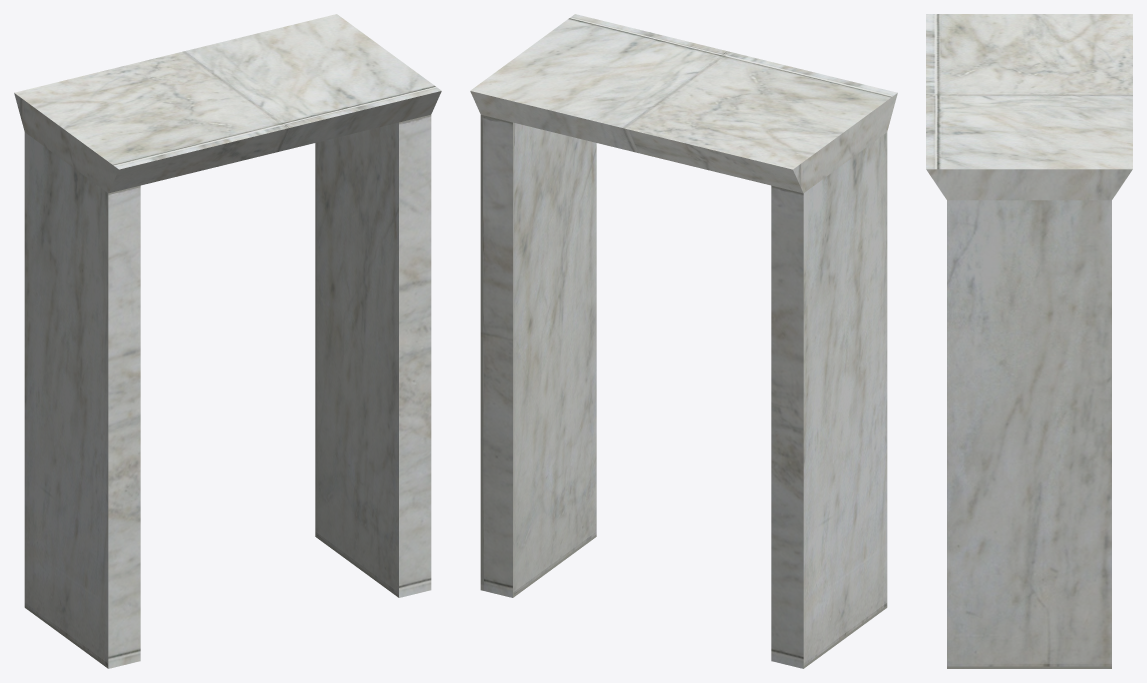
File: WallsBigEntrance.fbx
3 renders of one model, left to right at view 1: azimuth 30°, elevation 25°; view 2: azimuth 150°, elevation 25°; view 3: azimuth 270°, elevation 25°, orthographic.
Parts seen in each view (by area): view 1: Cube; view 2: Cube; view 3: Cube.
Part boxes in pixels (x1=…): Cube: x1=14, y1=14, x2=441, y2=668; Cube: x1=470, y1=14, x2=897, y2=668; Cube: x1=926, y1=14, x2=1132, y2=668.
Bounding box in the file's own units: 200 × 300 × 113.
